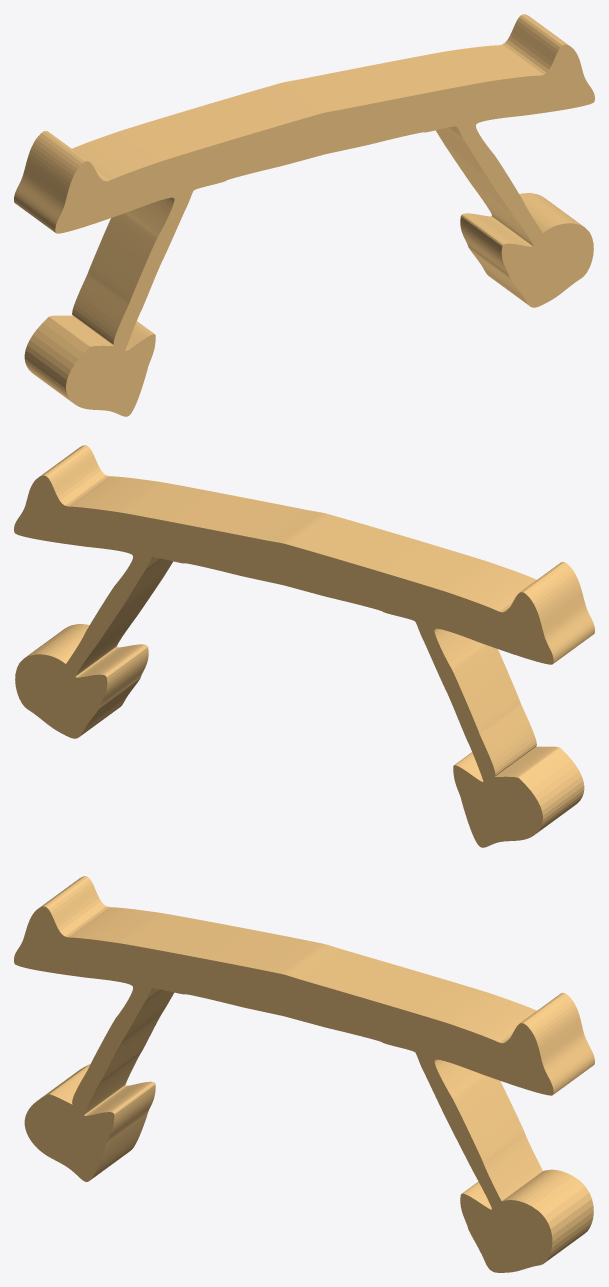
Rendered from Cartier4.glb.
3 renders of one model, top to bottom at view 1: azimuth 30°, elevation 25°; view 2: azimuth 150°, elevation 25°; view 3: azimuth 330°, elevation 25°, orthographic.
Parts seen in each view (by area): view 1: glasses.024; view 2: glasses.024; view 3: glasses.024.
Part boxes in pixels (x1,y1,x2,y2): glasses.024: (14,14,594,416); glasses.024: (14,445,594,847); glasses.024: (14,876,594,1272).
Bounding box in the file's own units: 0.7603 × 0.3574 × 0.1011.
